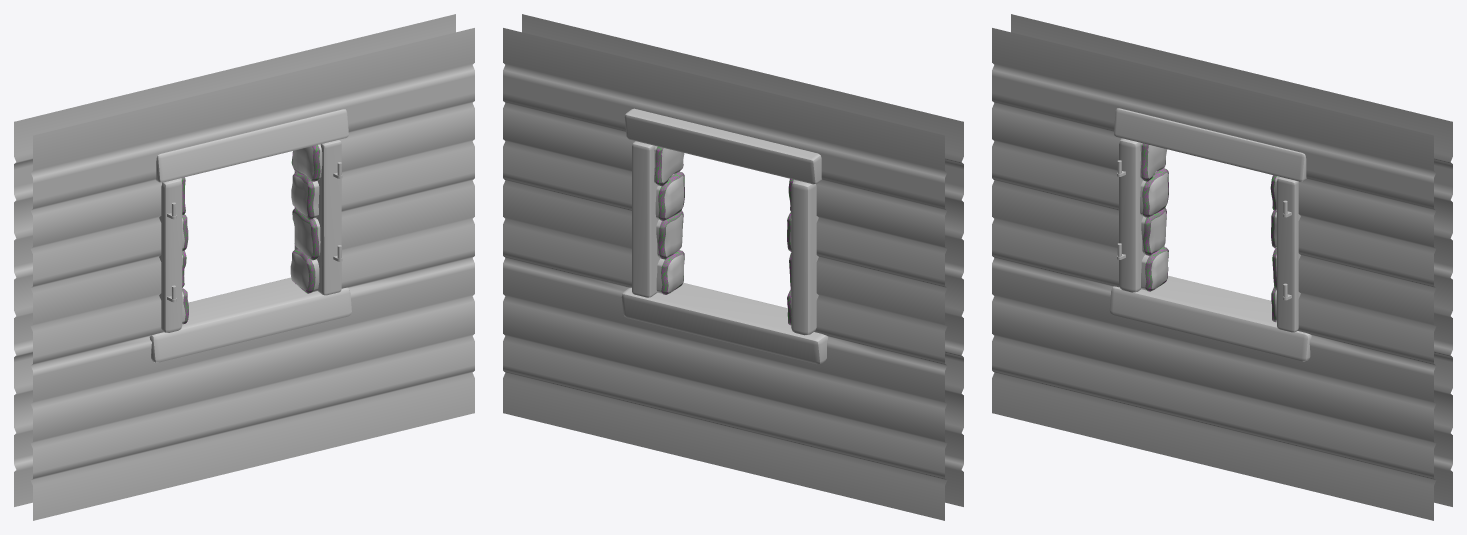
The model's file is SM_wallWindow3m_a1.fbx.
3 views of the same model, side by side, from view 1: azimuth 30°, elevation 25°; view 2: azimuth 150°, elevation 25°; view 3: azimuth 330°, elevation 25° (orthographic).
Visible parts, largest first — view 1: SM_wallWindow3m_a1_LOD0; view 2: SM_wallWindow3m_a1_LOD0; view 3: SM_wallWindow3m_a1_LOD0.
Part boxes in pixels (x1=…): SM_wallWindow3m_a1_LOD0: x1=14, y1=14, x2=474, y2=520; SM_wallWindow3m_a1_LOD0: x1=503, y1=14, x2=963, y2=520; SM_wallWindow3m_a1_LOD0: x1=992, y1=14, x2=1452, y2=520.
Bounding box in the file's own units: 300 × 41.13 × 250.
3 materials, 1 textured.
